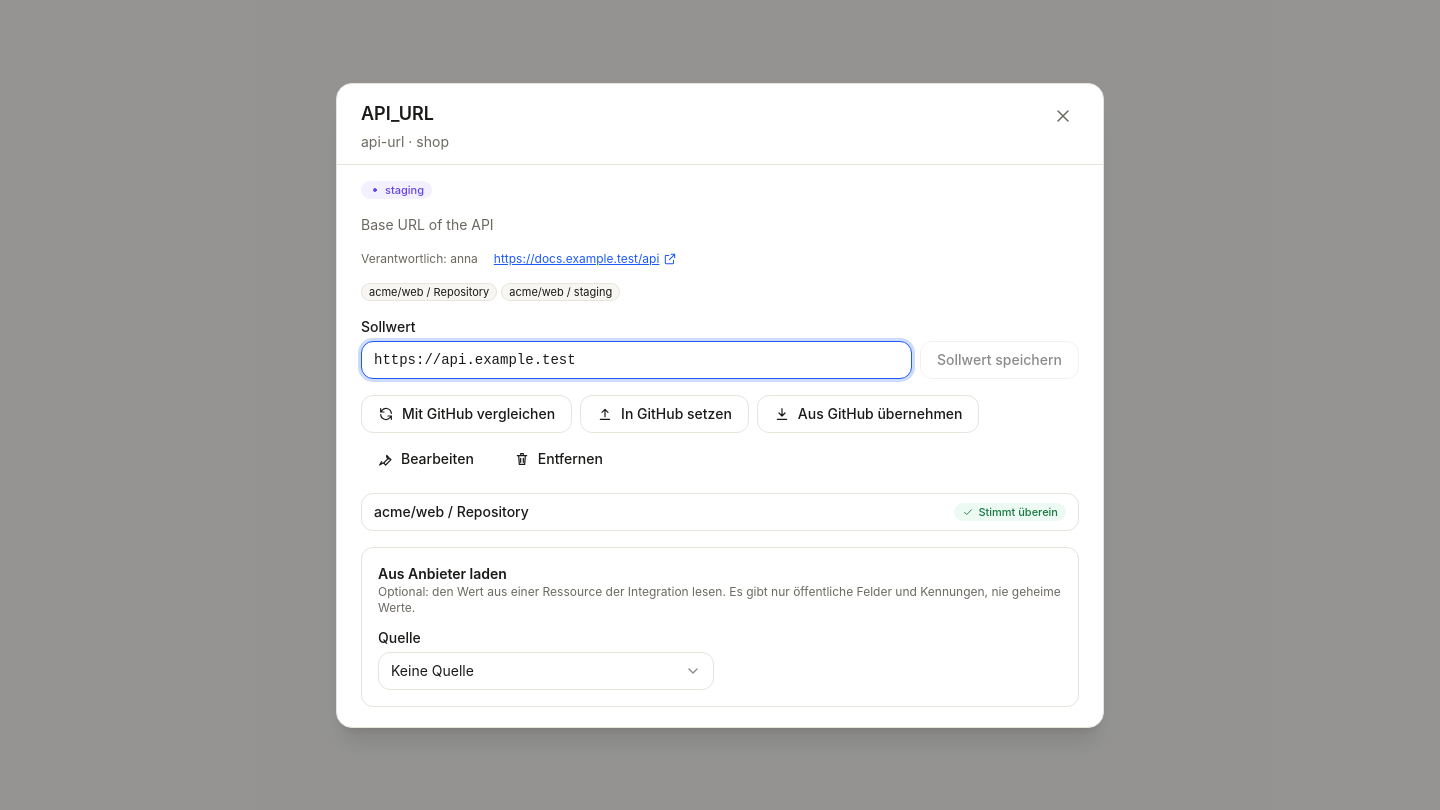
Test: VariableDetail › saves a changed expected value, clears the acknowledgement, reloads and refreshes an open comparison
This screenshot has width=1440, height=810.
Check: the button "Sollwert speichern" is disabled, box [920,340,1079,378]
Step 1. Replace the text in the field labelled "Sollwert" with "https://new.example.test" → [636, 360], box [361,340,912,378]
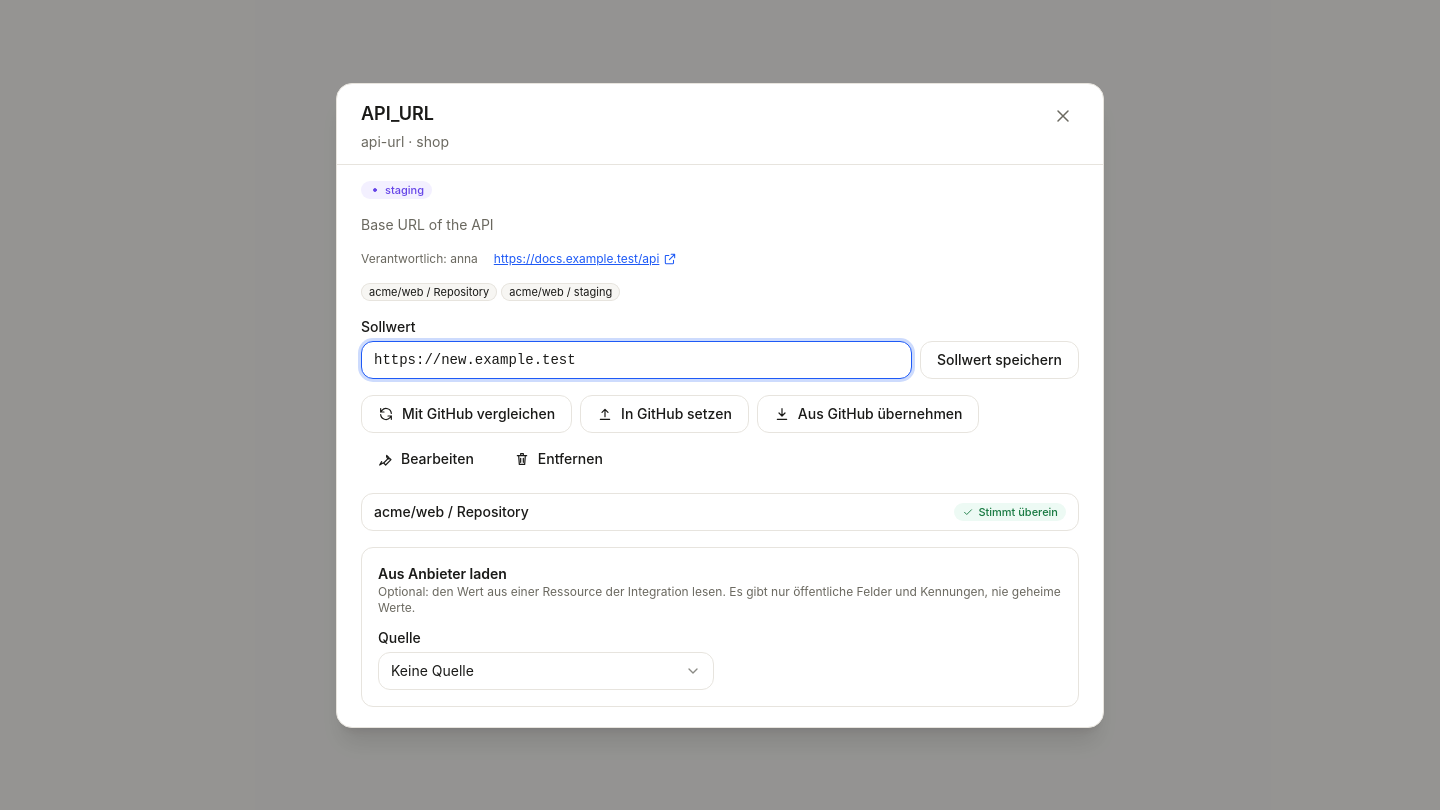
Step 2. Click the button "Sollwert speichern" → [1000, 360], box [920,340,1079,378]
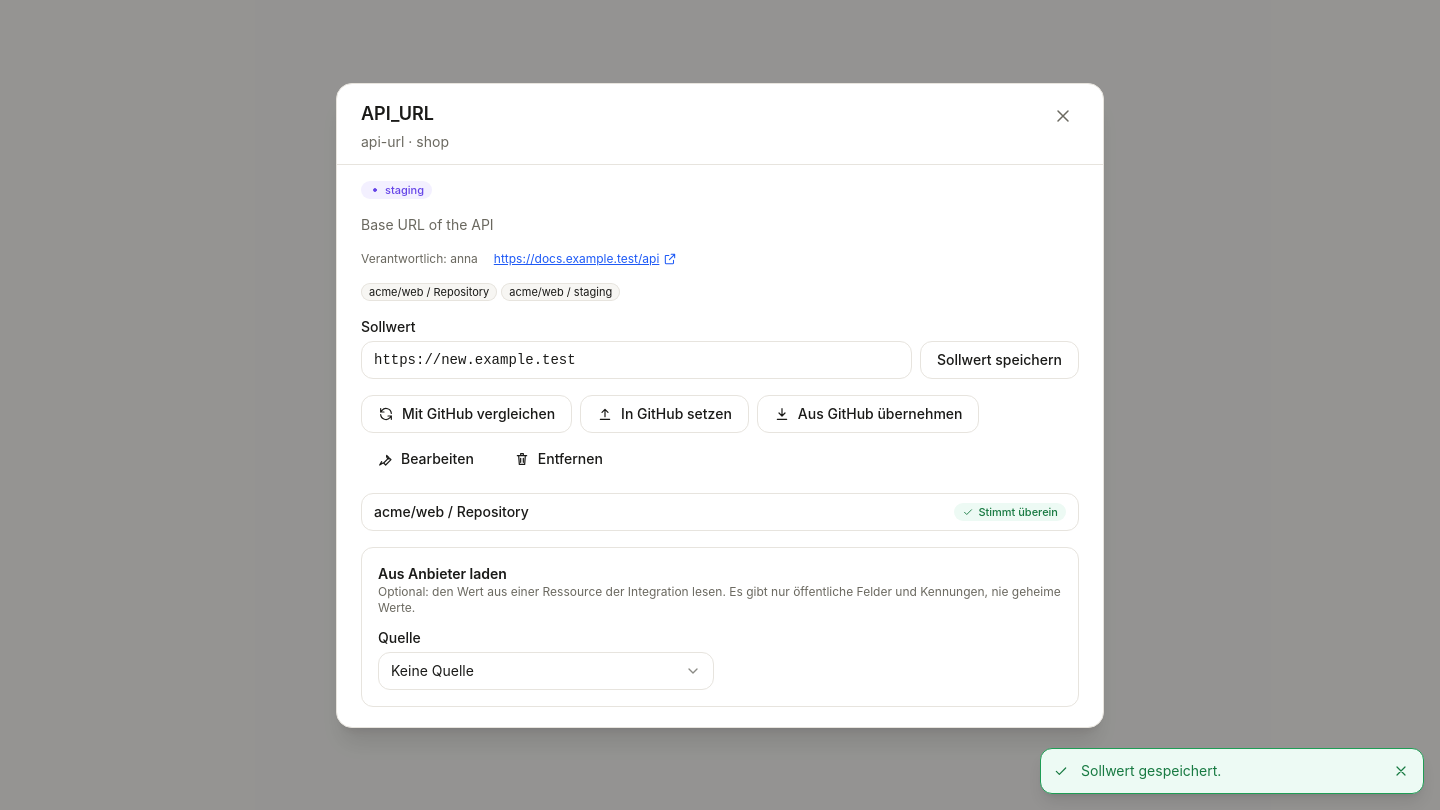
Check: the text "Sollwert gespeichert." is shown, box [1081,762,1221,779]
